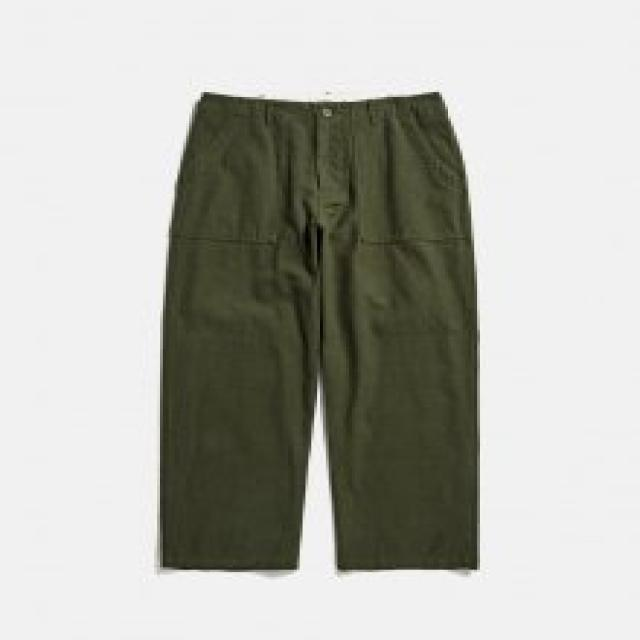long-pants: (158, 90, 488, 574)
